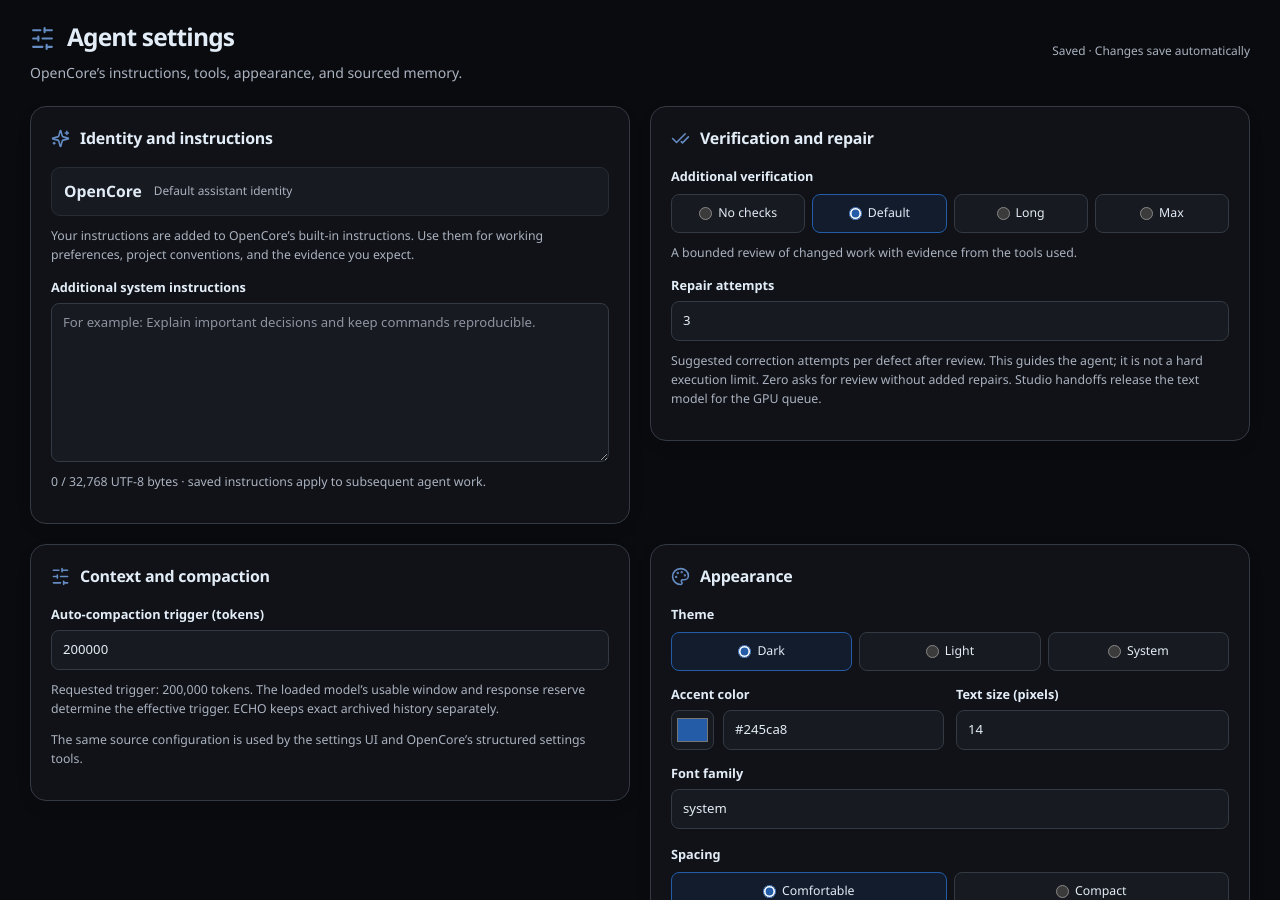
AgentPlatformSettings › saves user instructions and verification through the native source configuration
Expected: the heading "Identity and instructions" is shown, [51,127,273,149]
Replace the text in the text box labelled "Additional system instructions" with "Keep useful evidence with every change." at coordinates (330, 383), box [51,304,609,462]
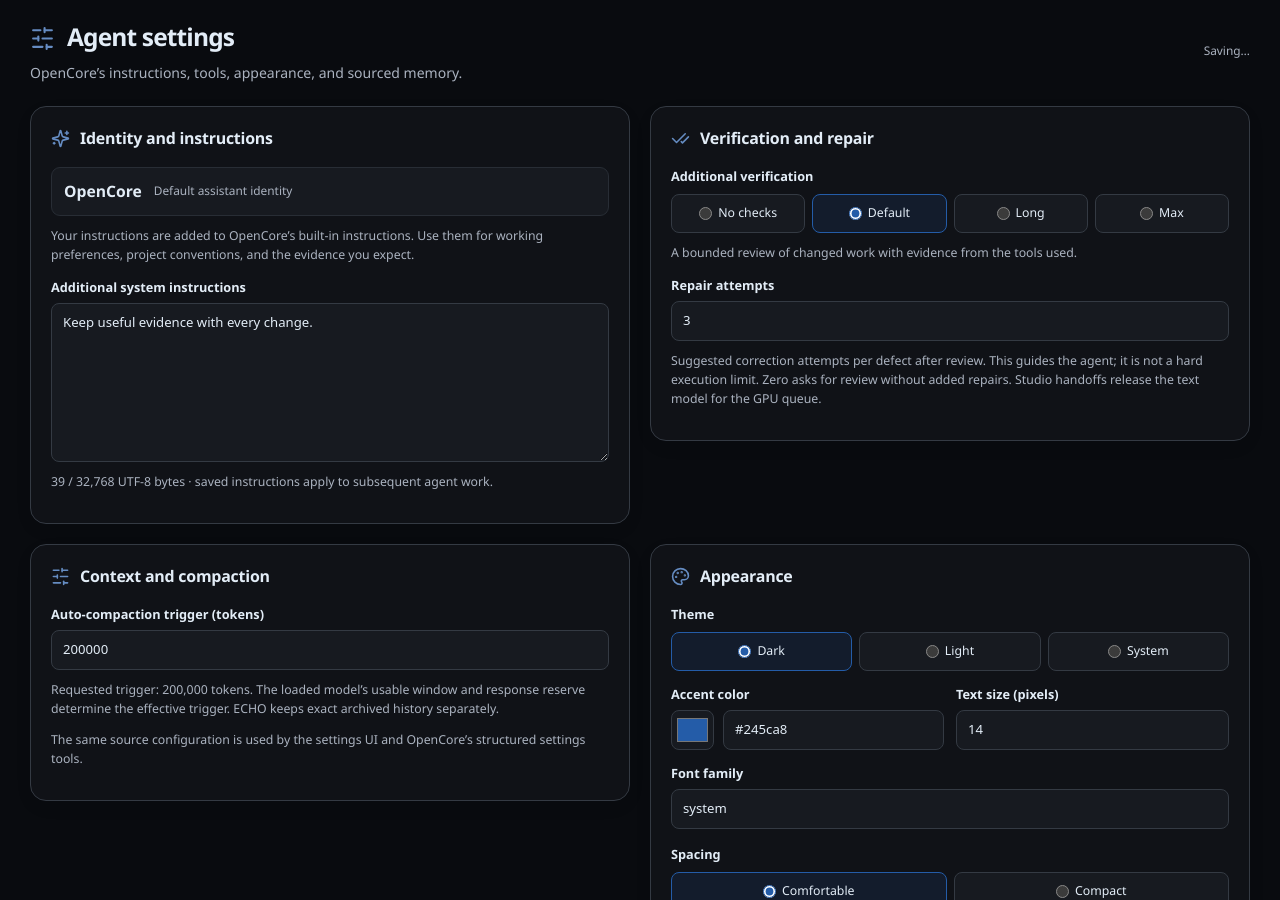
Click the radio button labelled "Max" at coordinates (1147, 213), box [1140,207,1153,220]
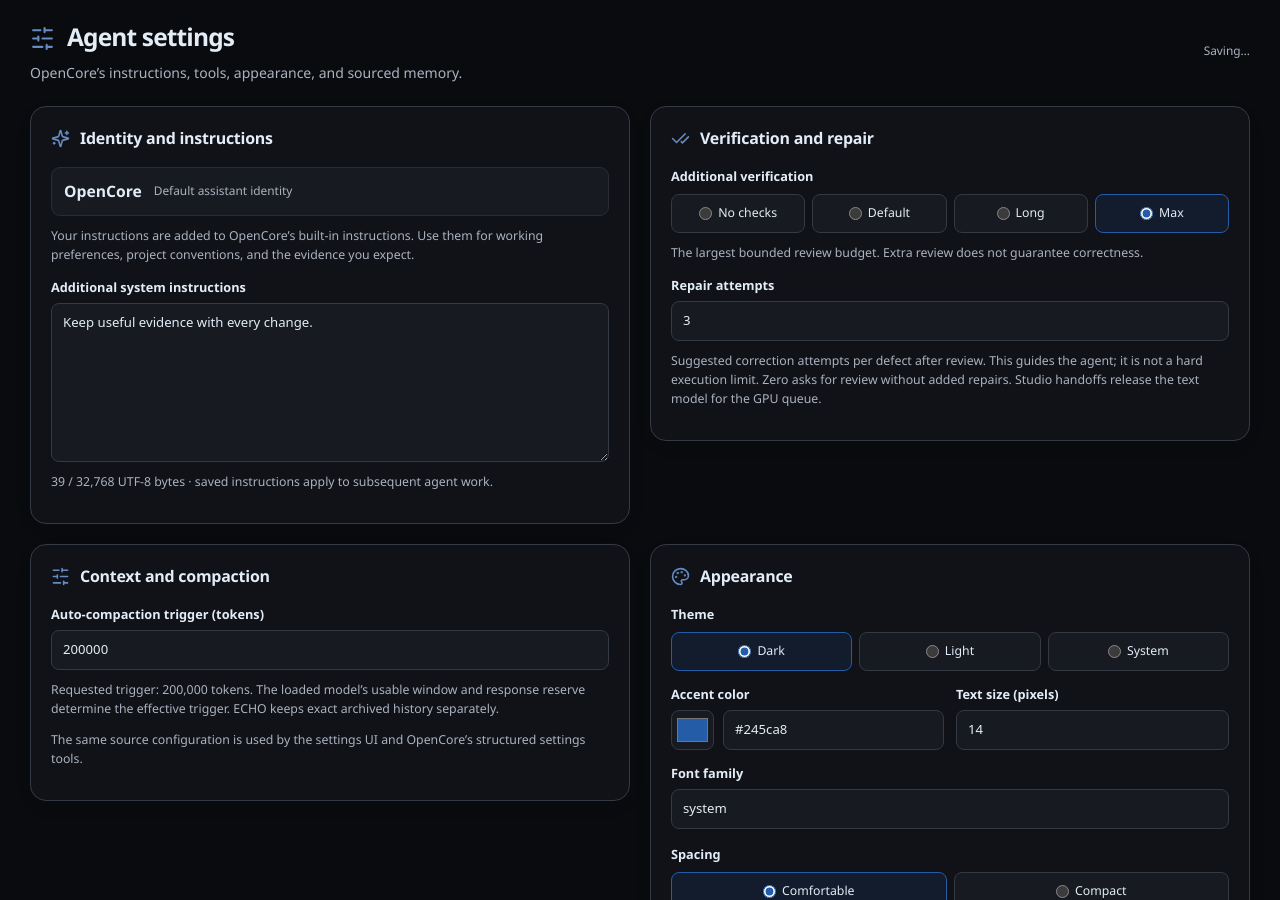
Replace the text in the number field labelled "Repair attempts" with "5" at coordinates (950, 321), box [671,301,1229,341]
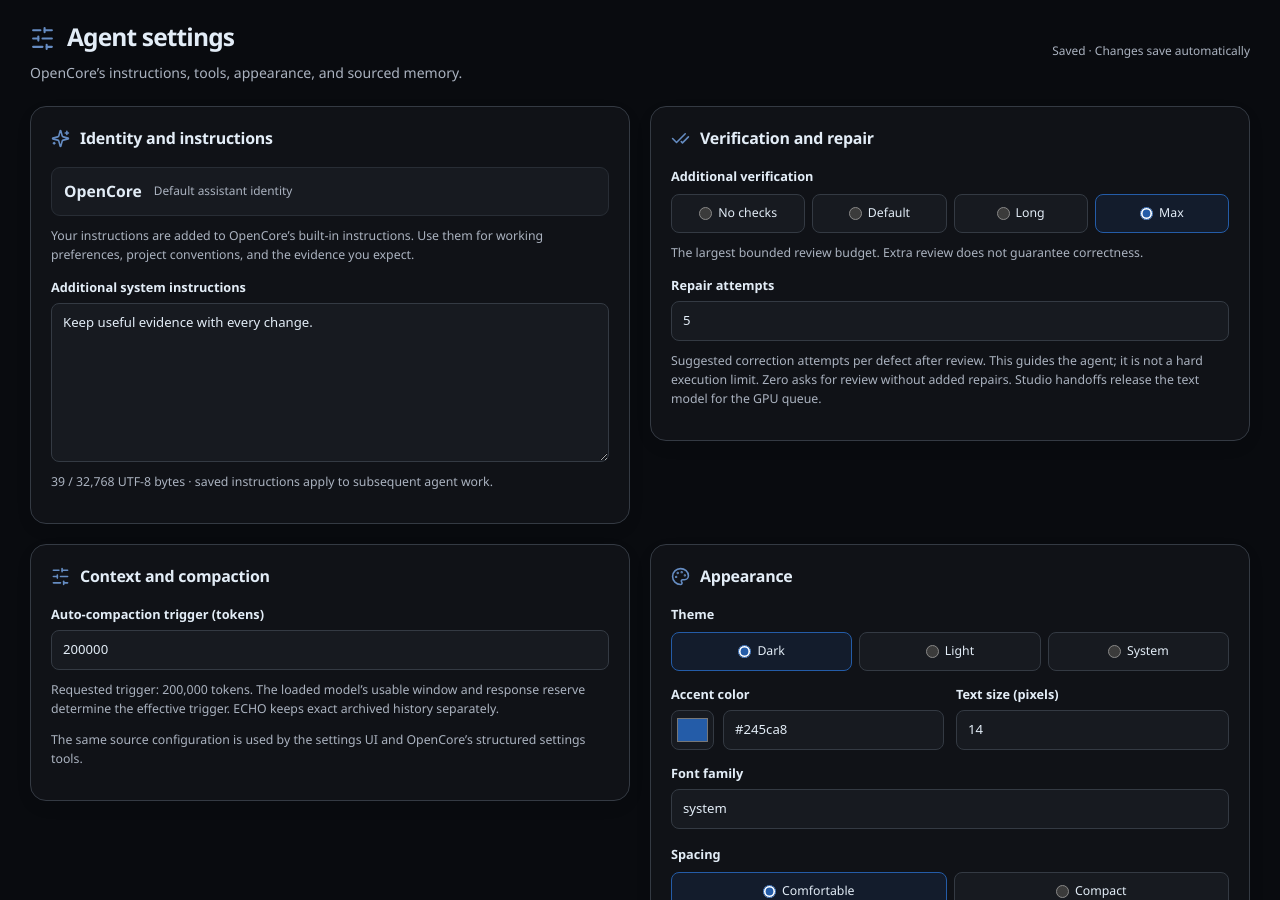
Result: the message named "Agent settings save status" shows "Saved" at [1052,43,1250,59]
